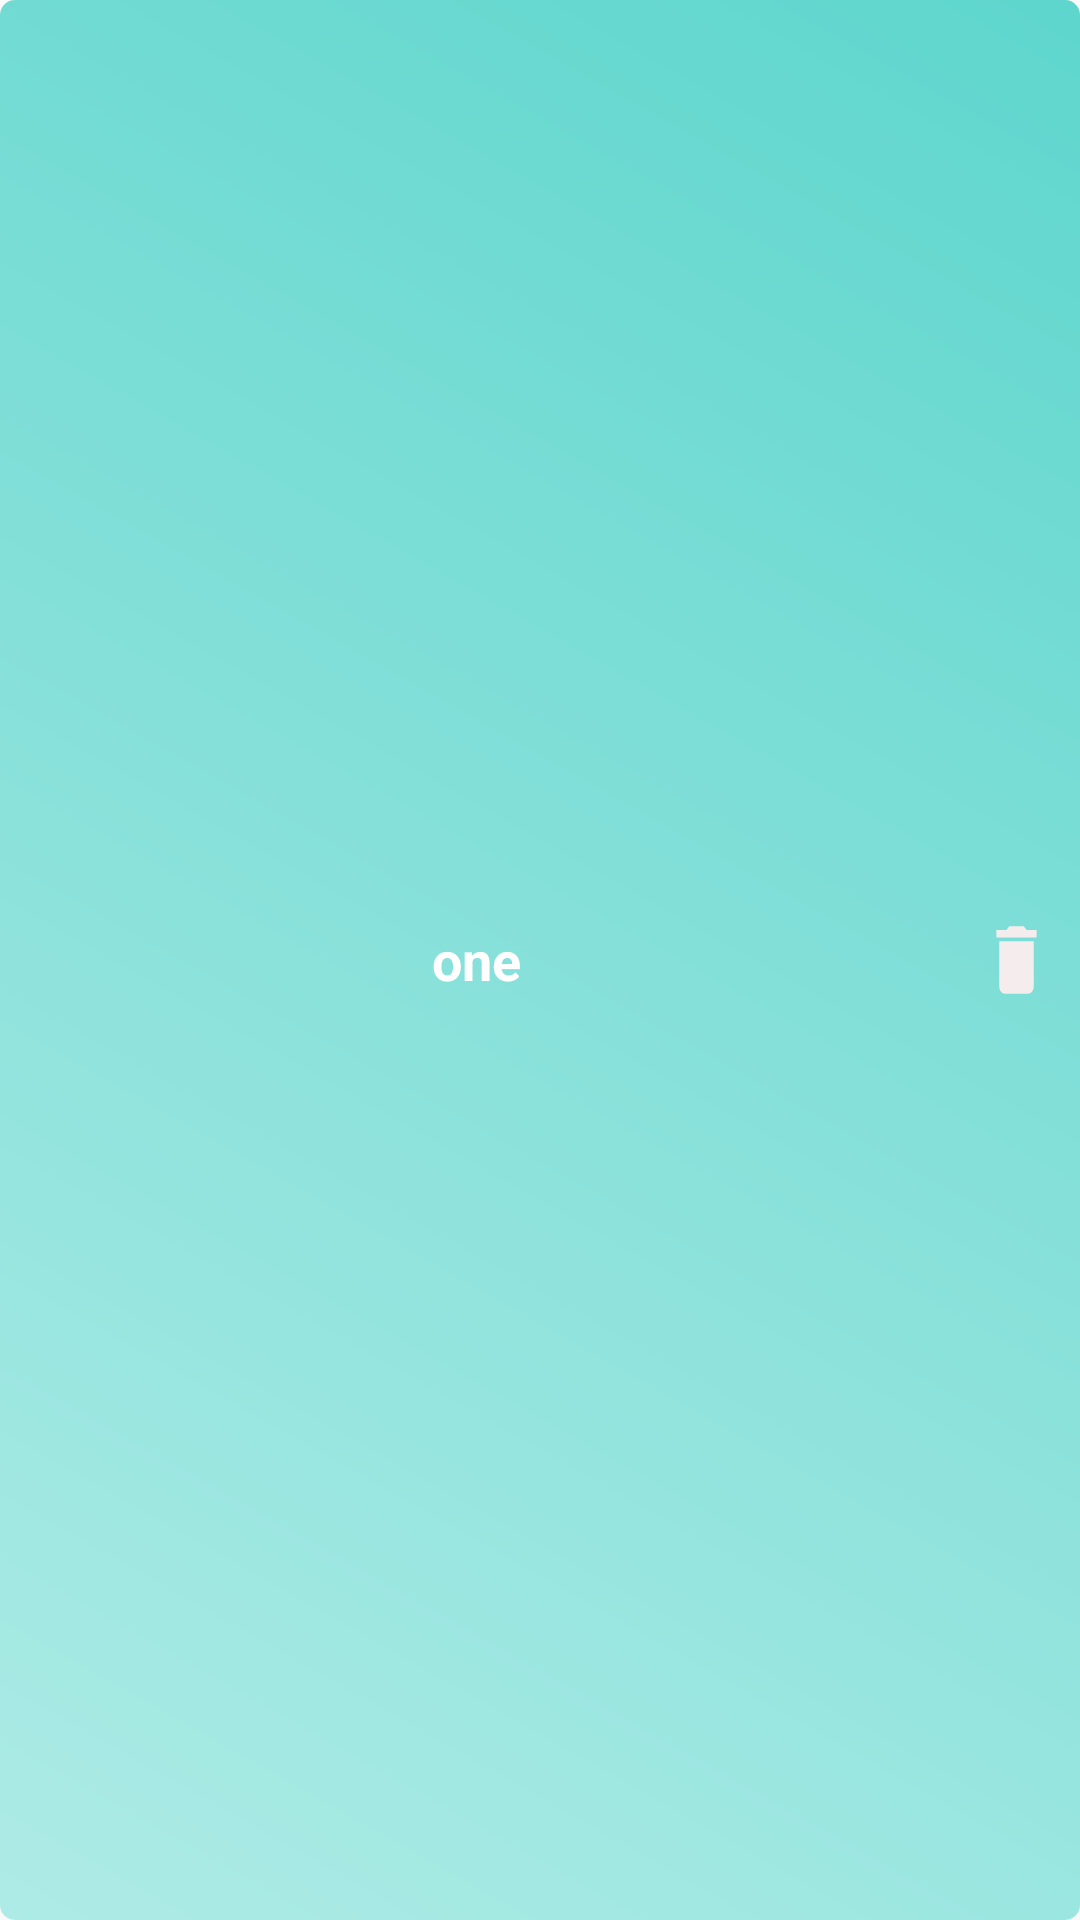

Icons on this 1080x1920 Android screen, each with its box as (x1, y1, x2, y2):
delete: (996, 926, 1037, 994)
